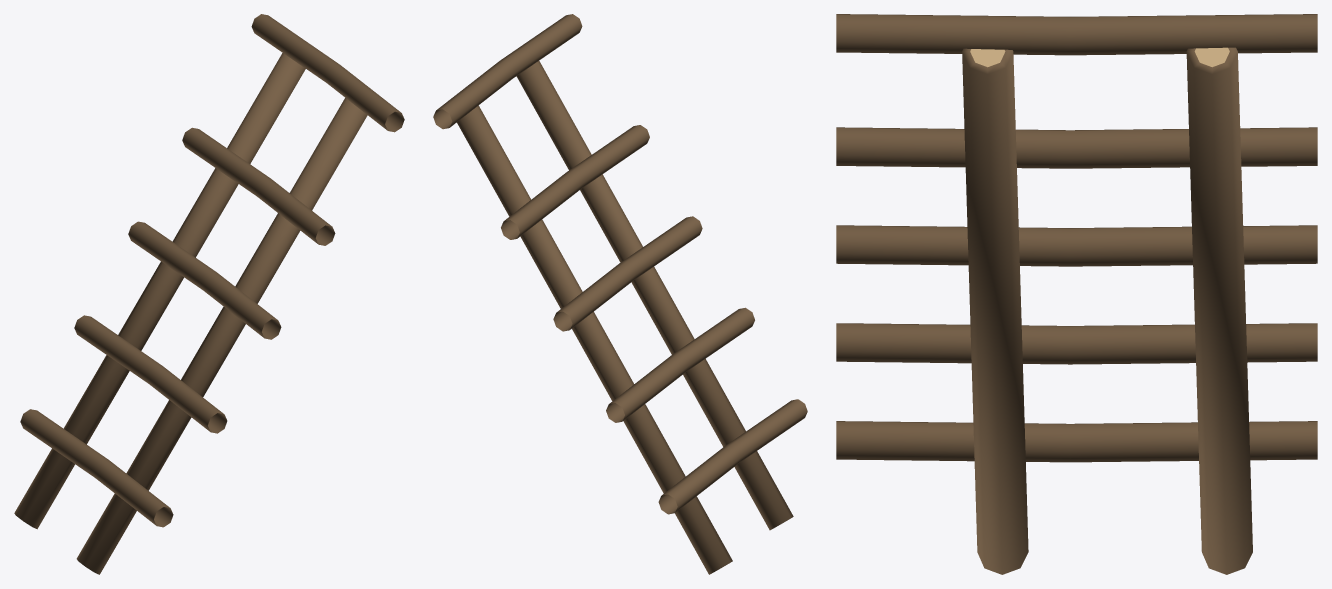
The model's file is rpgpp_ag_roof_support_01_6x5x3_half_a.fbx.
3 views of the same model, side by side, from view 1: azimuth 30°, elevation 25°; view 2: azimuth 150°, elevation 25°; view 3: azimuth 270°, elevation 25° (orthographic). The views are drawn at different scales.
Visible parts, largest first — view 1: rpgpp_ag_roof_support_01_6x5x3_half_a; view 2: rpgpp_ag_roof_support_01_6x5x3_half_a; view 3: rpgpp_ag_roof_support_01_6x5x3_half_a.
Boxes of the visible parts, x1=… form: rpgpp_ag_roof_support_01_6x5x3_half_a: x1=14, y1=14, x2=404, y2=574; rpgpp_ag_roof_support_01_6x5x3_half_a: x1=433, y1=14, x2=807, y2=574; rpgpp_ag_roof_support_01_6x5x3_half_a: x1=836, y1=14, x2=1317, y2=574.
Bounding box in the file's own units: 3.78 × 5.37 × 3.
